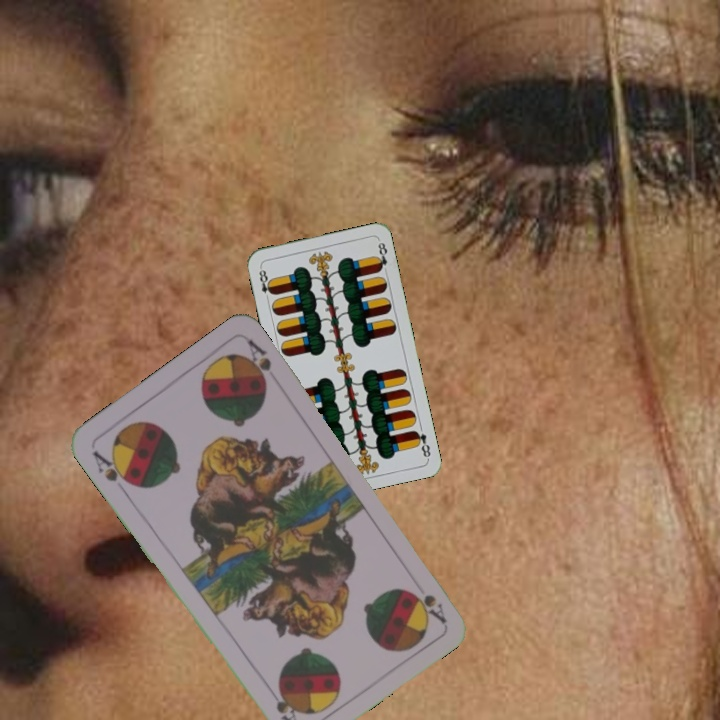E8: (255, 263, 276, 303), (410, 426, 433, 461)
SA: (88, 446, 137, 496), (410, 587, 449, 625)
